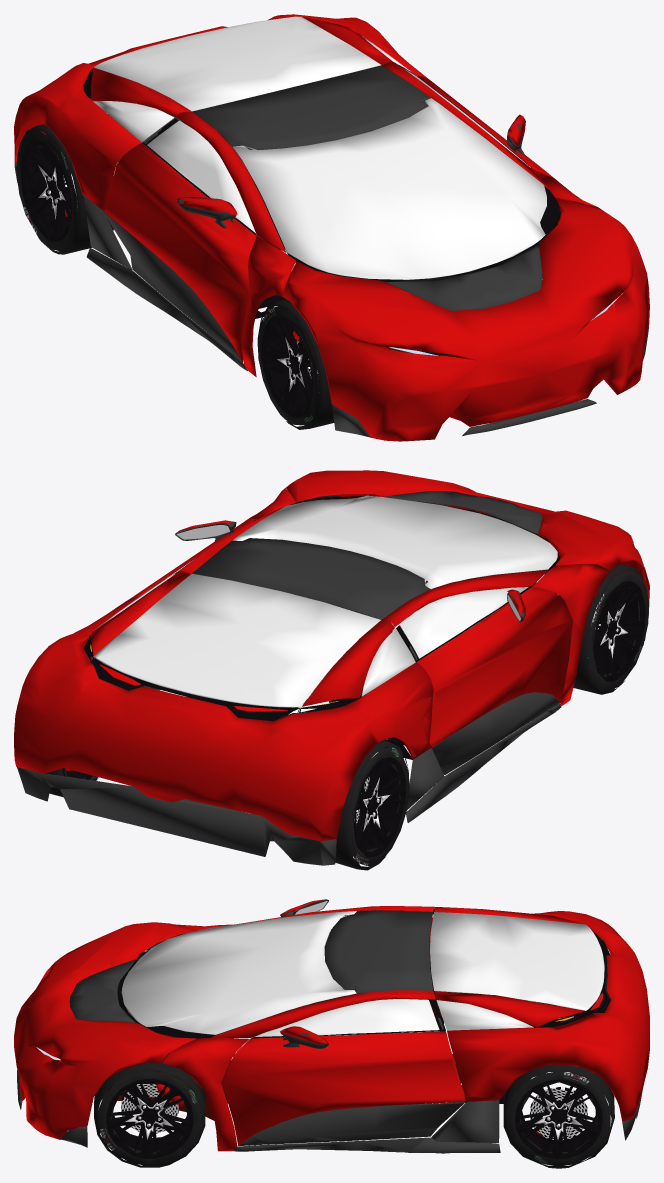
The model's file is car-low.glb.
The picture shows the model from 3 angles, top to bottom: view 1: azimuth 30°, elevation 25°; view 2: azimuth 150°, elevation 25°; view 3: azimuth 270°, elevation 25°; orthographic projection. The views are drawn at different scales.
Visible parts, largest first — view 1: BodyHood, BodyWindshield, BodyRearwindow, BodyDoorRColor1, BodyRearPanelsColor1, BodyRoofPanel, BodyPillars, rim (×2), tyre (×2), BodyPanelsColor2, BodyHoodTopgrill, BodyDoorRWindow (+5 smaller); view 2: BodyRearPanelsColor1, BodyRearwindow, BodyWindshield, BodyDoorRColor1, BodyPanelsColor2, BodyRoofPanel, BodyHood, rim (×2), BodyPillars, tyre (×2), BodyDoorRColor2, BodyDoorRWindow (+3 smaller); view 3: BodyWindshield, BodyRearPanelsColor1, BodyHood, BodyDoorLColor1, BodyRearwindow, rim (×2), tyre (×2), BodyRoofPanel, BodyPillars, BodyDoorLColor2, BodyPanelsColor2, BodyDoorLWindow (+6 smaller).
Boxes of the visible parts, box(x1,y1,x2,y2) form: BodyHood: box(282, 198, 649, 441); BodyWindshield: box(232, 98, 546, 279); BodyRearwindow: box(93, 16, 380, 111); BodyDoorRColor1: box(103, 143, 256, 362); BodyRearPanelsColor1: box(14, 14, 430, 210); BodyRoofPanel: box(192, 65, 430, 150); BodyPillars: box(175, 61, 596, 377); rim (×2): box(21, 141, 319, 417); tyre (×2): box(16, 124, 334, 429); BodyPanelsColor2: box(15, 106, 648, 437); BodyHoodTopgrill: box(386, 245, 542, 310); BodyDoorRWindow: box(147, 120, 256, 234); BodyRearPanelsColor1: box(14, 571, 433, 841); BodyRearwindow: box(93, 574, 380, 707); BodyWindshield: box(232, 495, 557, 589); BodyDoorRColor1: box(416, 586, 572, 747); BodyPanelsColor2: box(17, 572, 645, 865); BodyRoofPanel: box(192, 538, 430, 619); BodyHood: box(282, 470, 649, 614); rim (×2): box(353, 581, 645, 857); BodyPillars: box(175, 488, 610, 706); tyre (×2): box(335, 564, 648, 870); BodyDoorRColor2: box(432, 692, 559, 774); BodyDoorRWindow: box(400, 587, 528, 658); BodyWindshield: box(121, 911, 356, 1034); BodyRearPanelsColor1: box(434, 907, 649, 1121); BodyHood: box(14, 922, 196, 1139); BodyDoorLColor1: box(222, 1031, 465, 1145); BodyRearwindow: box(430, 912, 604, 1010); rim (×2): box(106, 1079, 602, 1159); tyre (×2): box(94, 1055, 614, 1168); BodyRoofPanel: box(324, 910, 433, 993); BodyPillars: box(162, 906, 435, 1151); BodyDoorLColor2: box(239, 1102, 465, 1145); BodyPanelsColor2: box(17, 992, 642, 1153); BodyDoorLWindow: box(255, 999, 439, 1036).
Size of the model in its own units: 2.33 by 1.15 by 4.35.
17 materials, 4 textured.
